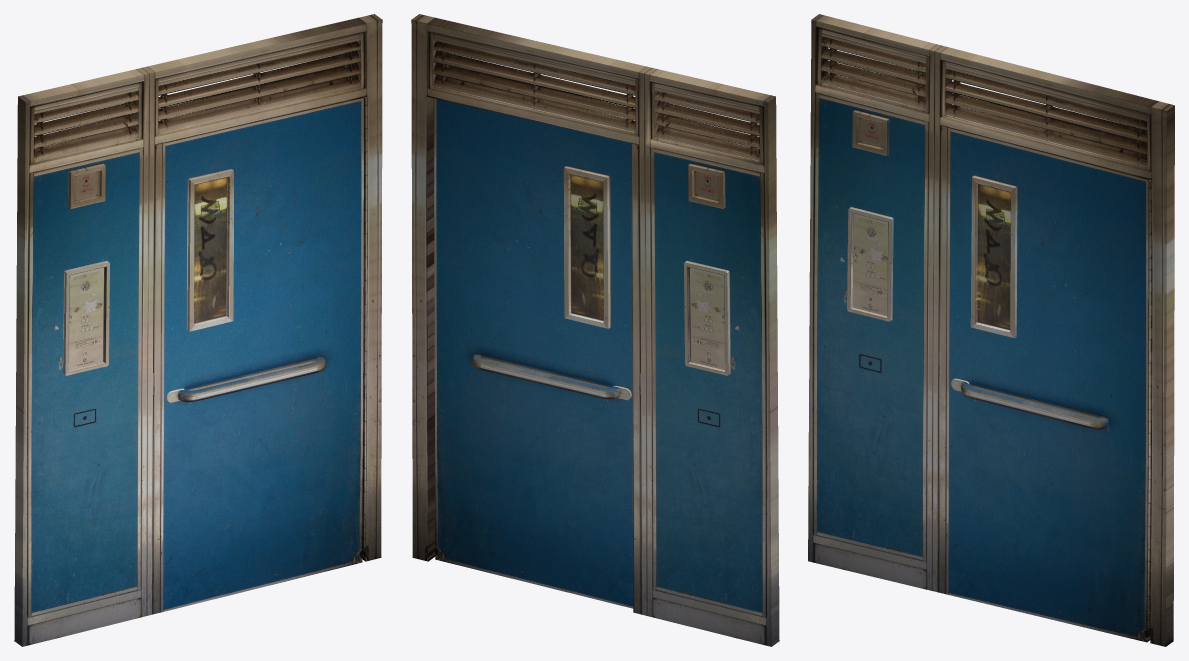
Rendered from door.glb.
3 views of the same model, side by side, from view 1: azimuth 30°, elevation 25°; view 2: azimuth 150°, elevation 25°; view 3: azimuth 330°, elevation 25° (orthographic).
Visible parts, largest first — view 1: Cylinder01, Object01; view 2: Cylinder01, Object01; view 3: Cylinder01, Object01.
Boxes of the visible parts, left/top/right/bottom form: Cylinder01: left=14, top=14, right=382, bottom=646; Object01: left=160, top=97, right=367, bottom=612; Cylinder01: left=411, top=14, right=779, bottom=646; Object01: left=433, top=98, right=633, bottom=608; Cylinder01: left=808, top=14, right=1174, bottom=646; Object01: left=946, top=127, right=1151, bottom=642.
Size of the model in its own units: 1.06 by 1.53 by 0.0835.
3 materials, 3 textured.
